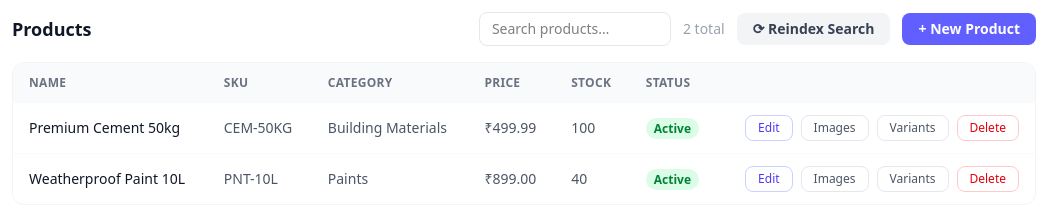
Test: ProductsTab › filters the list via search by name or SKU
Check: the text "Premium Cement 50kg" is shown, box [13,103,208,154]
Type "PNT-10L" into the search field with placeholder "Search products…". click: (575, 29)
box: [479,12,671,46]
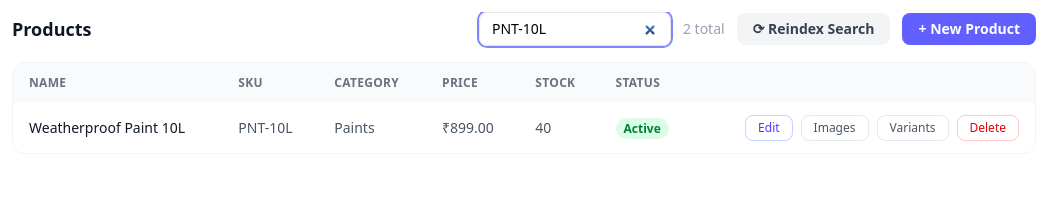
Check: the text "Weatherproof Paint 10L" is shown, box [13,103,222,153]
Check: the text "Premium Cement 50kg" is gone
